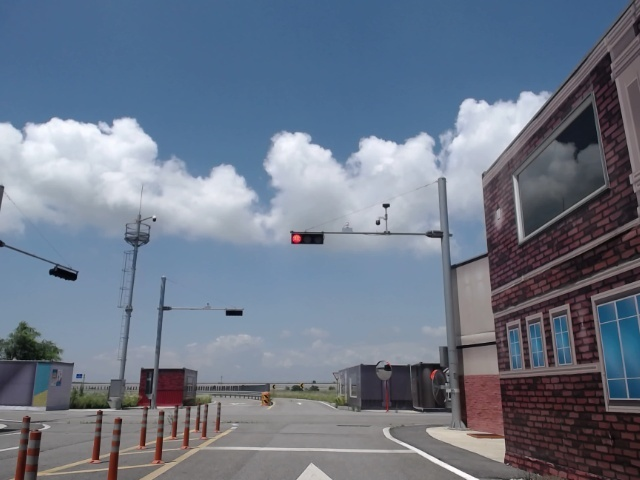red_3: (290, 233, 324, 245)
